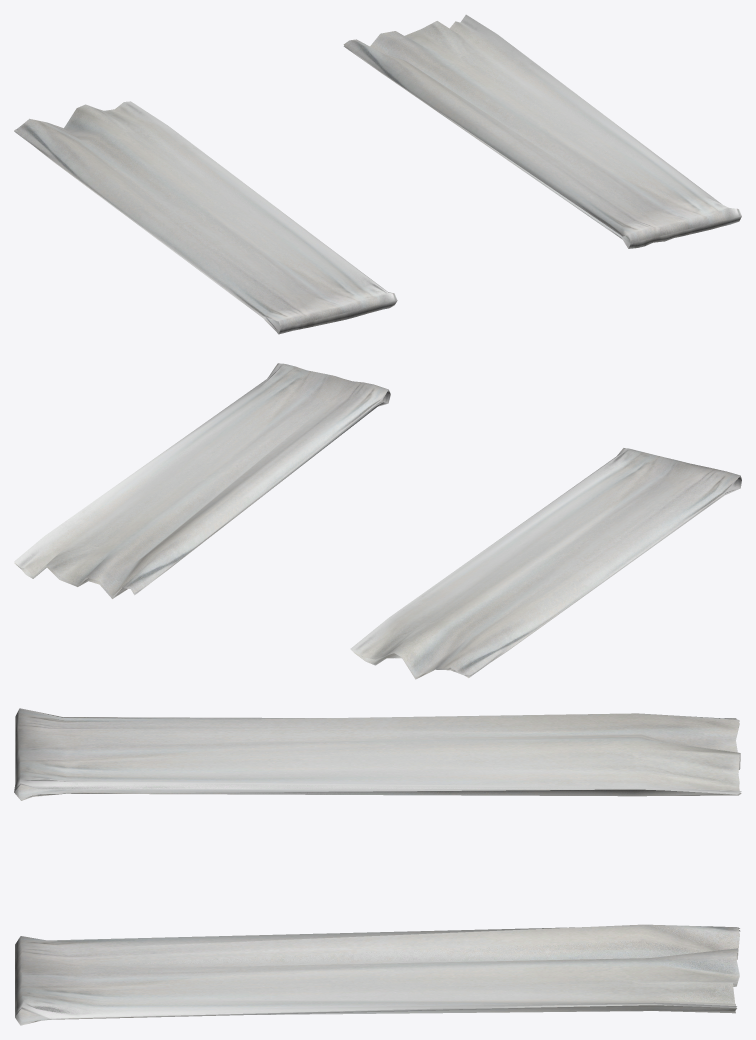
Rendered from drapes_waitroom_cloth_open.dae.
The picture shows the model from 3 angles, top to bottom: view 1: azimuth 30°, elevation 25°; view 2: azimuth 150°, elevation 25°; view 3: azimuth 270°, elevation 25°; orthographic projection. The views are drawn at different scales.
Parts seen in each view (by area): view 1: drapes_waitroom_cloth; view 2: drapes_waitroom_cloth; view 3: drapes_waitroom_cloth.
Boxes of the visible parts, <box> form: drapes_waitroom_cloth: <box>14,14,741,334</box>; drapes_waitroom_cloth: <box>14,363,741,679</box>; drapes_waitroom_cloth: <box>14,708,741,1025</box>.
Size of the model in its own units: 2.27 by 0.127 by 2.31.
